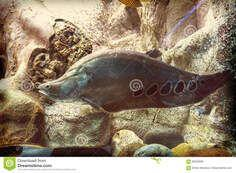Knifefish: (39, 47, 230, 114)
